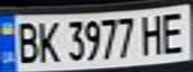3: (63, 17, 84, 62)
7: (115, 15, 139, 58), (100, 16, 121, 61)
9: (81, 17, 103, 61)
B: (9, 18, 42, 65)
E: (157, 8, 190, 55)
H: (136, 11, 169, 56)
K: (33, 18, 60, 64)
